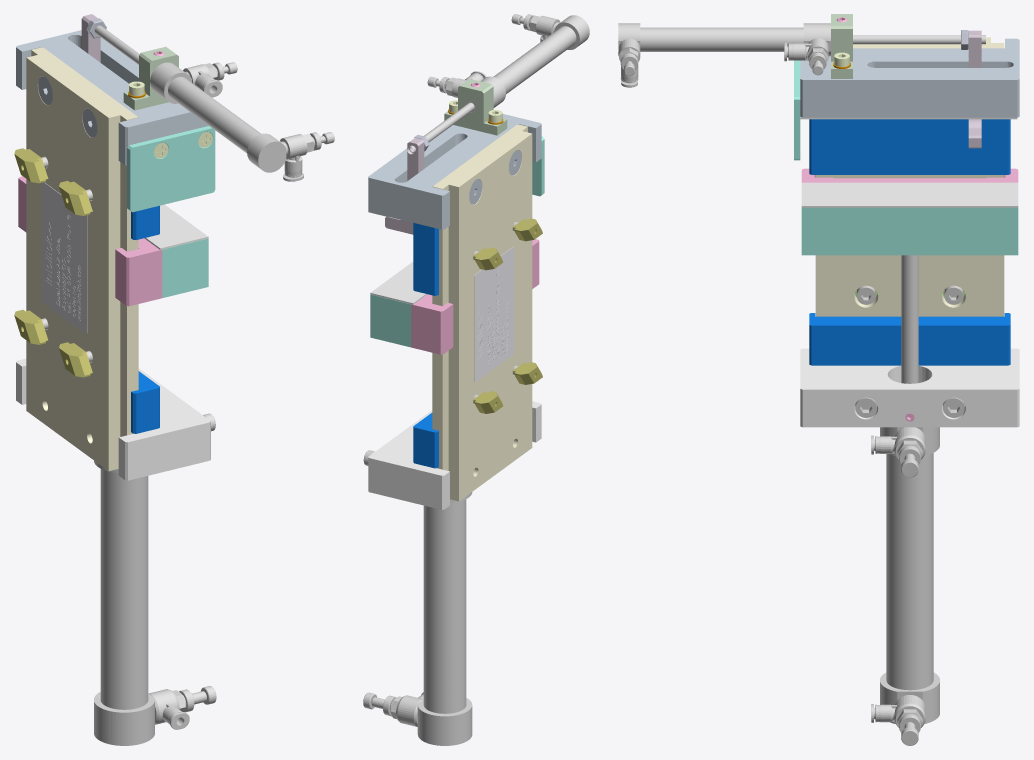
File: DualAxisVice.fbx
The picture shows the model from 3 angles, left to right: view 1: azimuth 30°, elevation 25°; view 2: azimuth 150°, elevation 25°; view 3: azimuth 270°, elevation 25°; orthographic projection. The views are drawn at different scales.
Parts seen in each view (by area): view 1: D31-0801-0313A; view 2: D31-0801-0313A; view 3: D31-0801-0313A.
Part boxes in pixels (<box>): D31-0801-0313A: <box>14,14,334,745</box>; D31-0801-0313A: <box>363,14,589,745</box>; D31-0801-0313A: <box>618,14,1019,745</box>.
Size of the model in its own units: 8.69 by 34.95 by 18.31.
